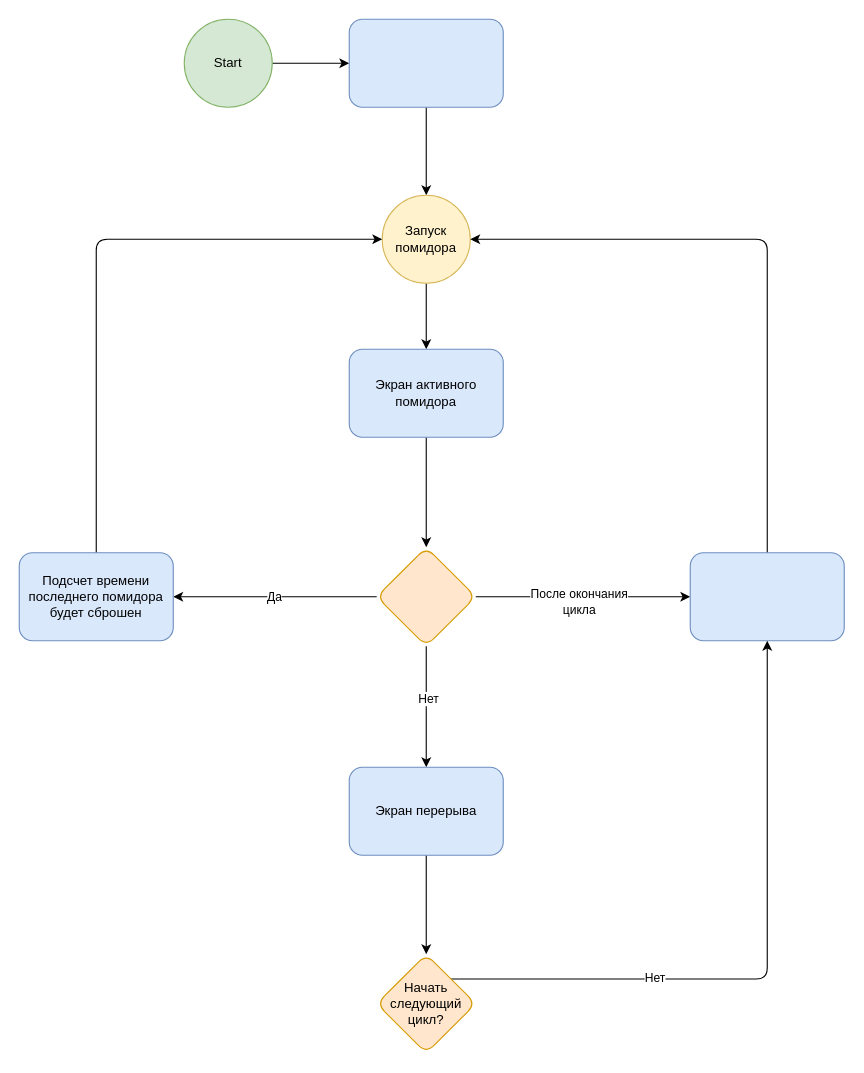
Some shapes in this 864 by 1073 pixel diagram are drawn without their labels. The centre of each missing label's shape, as x and y in pixels:
Будет отображена сводная сумма времени всех помидров: the point at 766,596
Завершить активный помидор?: the point at 426,596
Стартовый экран: the point at 425,62
